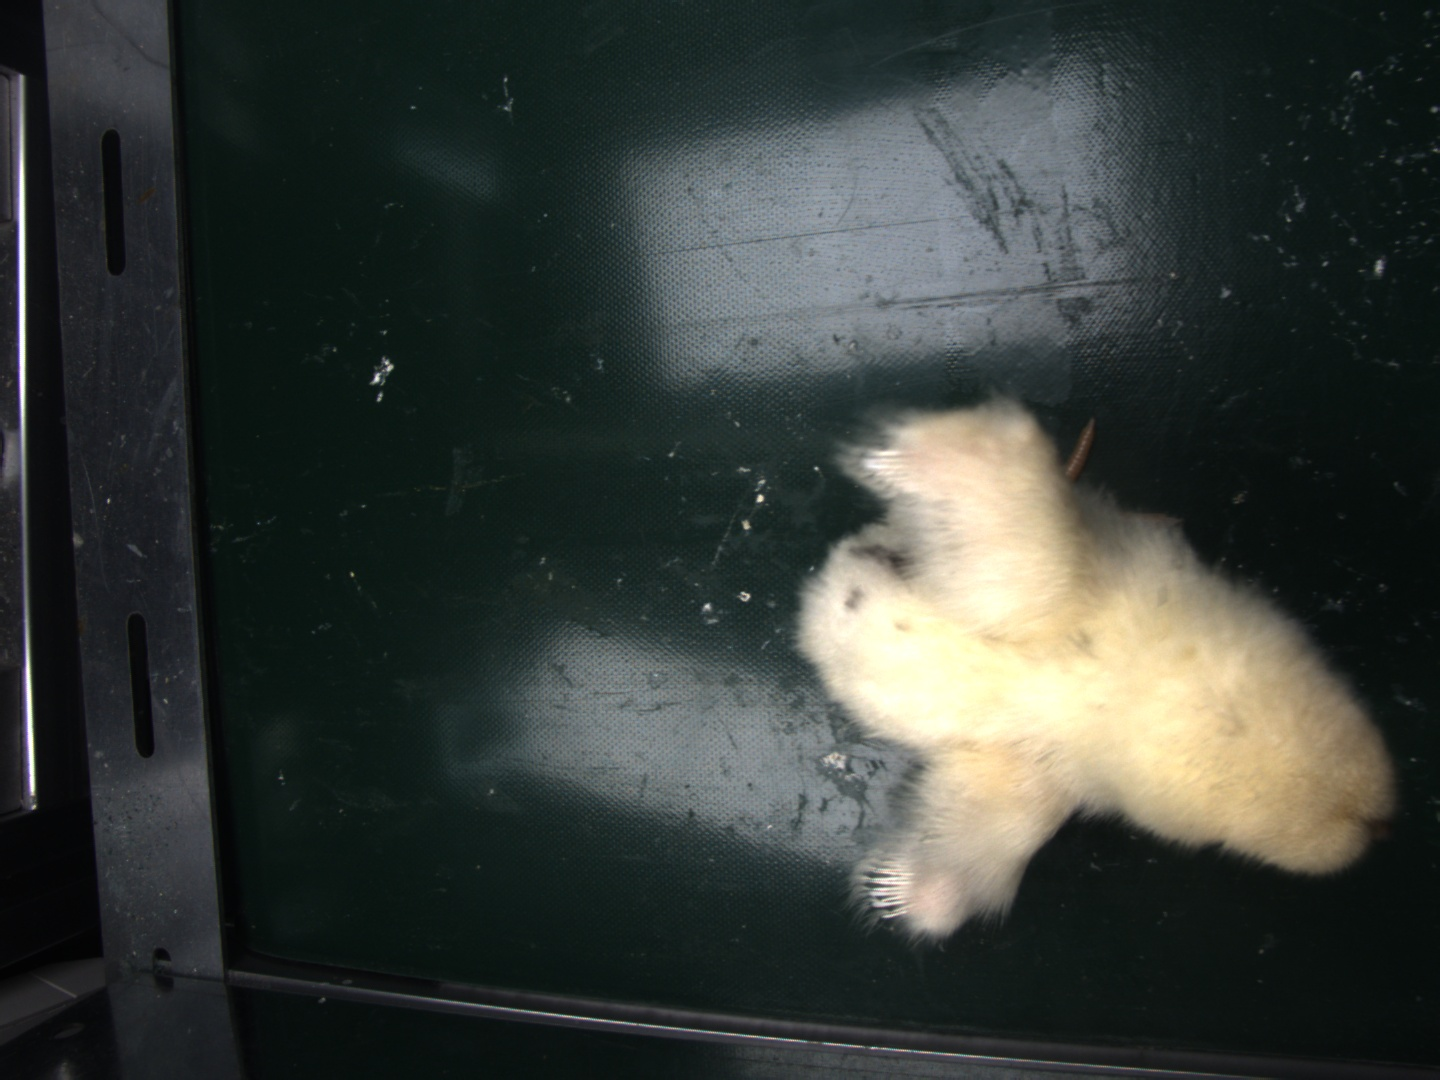male: (873, 854, 914, 925)
